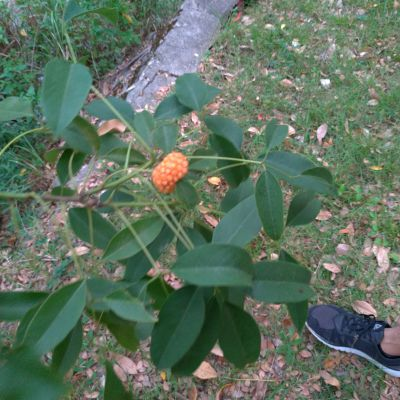eggs: (149, 151, 193, 193)
